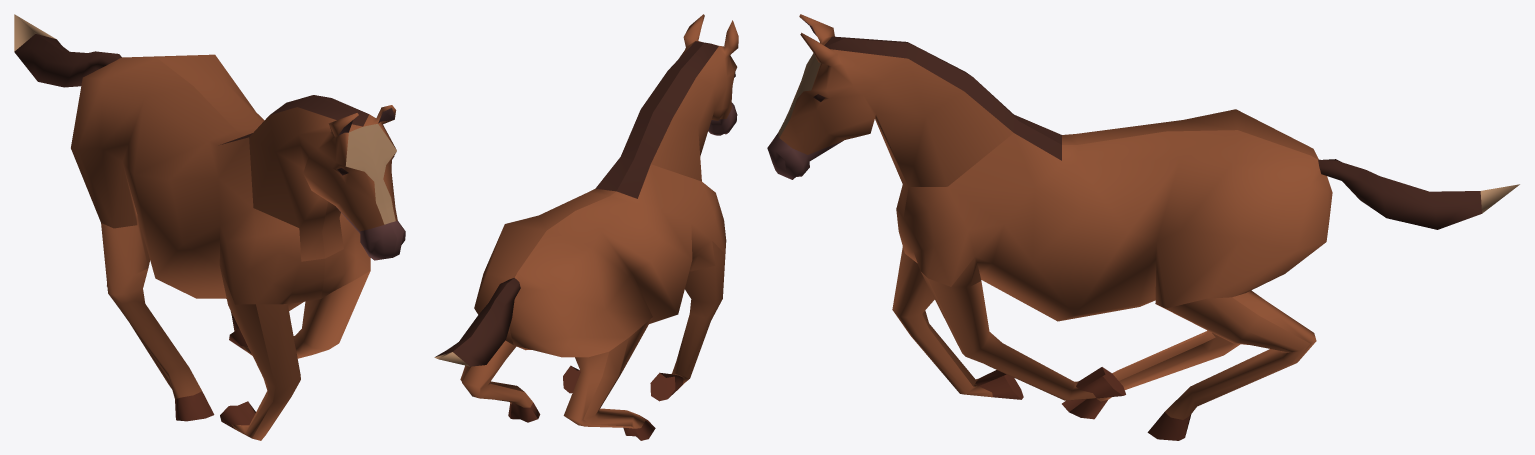
File: Horse FBX.fbx
The picture shows the model from 3 angles, left to right: view 1: azimuth 30°, elevation 25°; view 2: azimuth 150°, elevation 25°; view 3: azimuth 270°, elevation 25°; orthographic projection. The views are drawn at different scales.
Parts seen in each view (by area): view 1: Mesh_0; view 2: Mesh_0; view 3: Mesh_0.
Part boxes in pixels (x1,y1,x2,y2): Mesh_0: (14, 14, 405, 440); Mesh_0: (434, 14, 738, 440); Mesh_0: (767, 14, 1519, 440).
Bounding box in the file's own units: 19.14 × 40.29 × 66.69.
